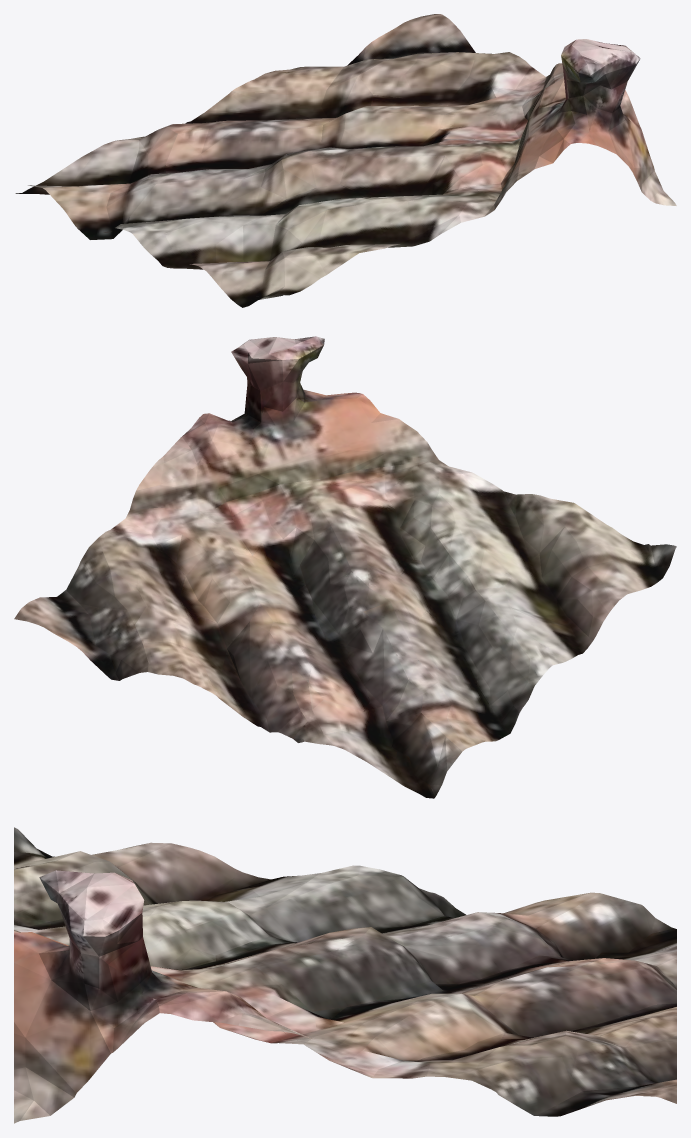
3 renders of one model, top to bottom at view 1: azimuth 30°, elevation 25°; view 2: azimuth 150°, elevation 25°; view 3: azimuth 270°, elevation 25°, orthographic. The views are drawn at different scales.
Bounding box in the file's own units: 0.8373 × 0.408 × 0.8374.
Materials: 3 (3 with a texture image).
